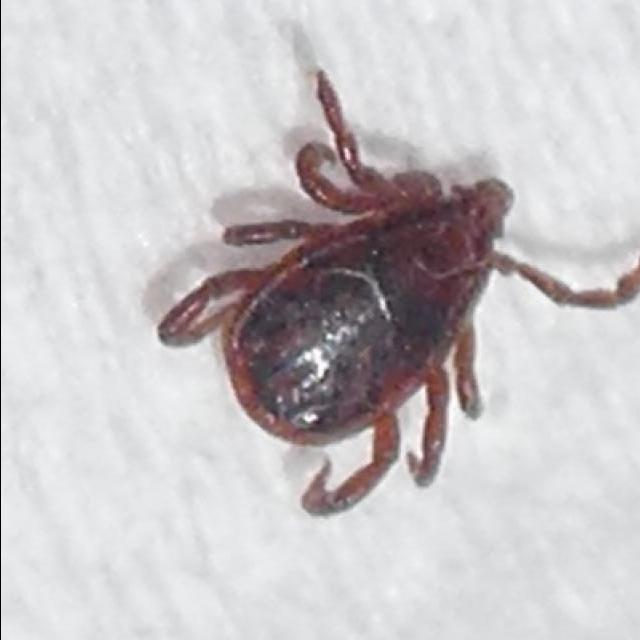Rhipicephalus Sanguineus-M: (157, 68, 640, 519)
